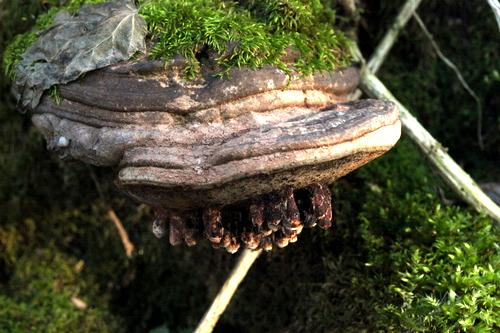Ganoderma - Fruit Body: (29, 51, 401, 209)
